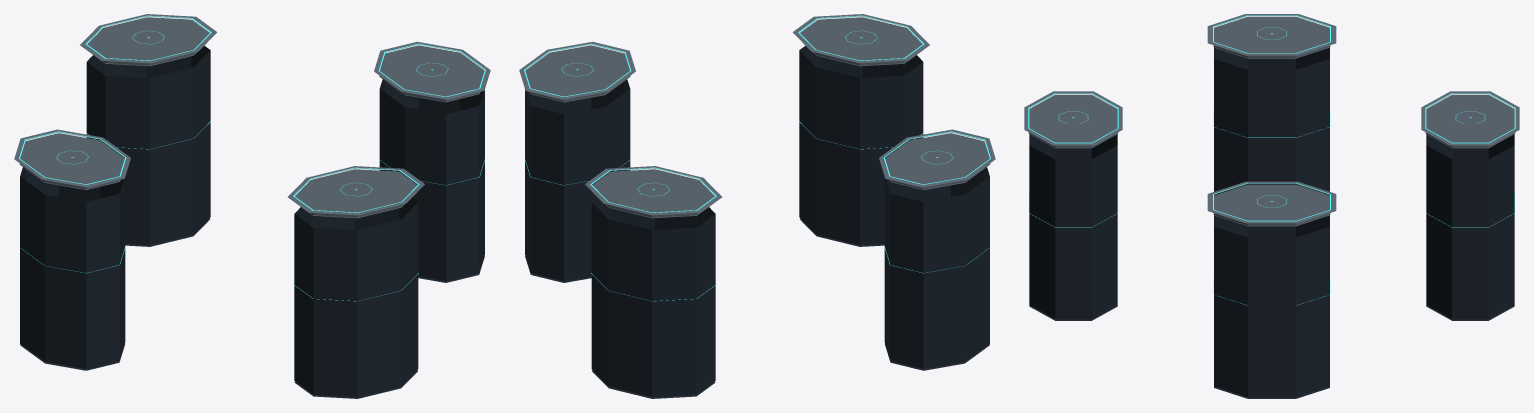
Rendered from arena-launch-bays-v2.glb.
3 views of the same model, side by side, from view 1: azimuth 30°, elevation 25°; view 2: azimuth 150°, elevation 25°; view 3: azimuth 270°, elevation 25° (orthographic). The views are drawn at different scales.
Visible parts, largest first — view 1: Bay 3 | Hatch | deep shaft walls, Bay 2 | Hatch | deep shaft walls, Bay 1 | Hatch | deep shaft walls, Bay 0 | Hatch | deep shaft walls, Bay 3 | HATCH_DOOR_LEFT, Bay 1 | HATCH_DOOR_LEFT, Bay 0 | HATCH_DOOR_LEFT, Bay 2 | HATCH_DOOR_LEFT, Bay 0 | HATCH_DOOR_RIGHT, Bay 1 | HATCH_DOOR_RIGHT, Bay 2 | HATCH_DOOR_RIGHT, Bay 3 | HATCH_DOOR_RIGHT (+4 smaller); view 2: Bay 1 | Hatch | deep shaft walls, Bay 2 | Hatch | deep shaft walls, Bay 3 | Hatch | deep shaft walls, Bay 0 | Hatch | deep shaft walls, Bay 1 | HATCH_DOOR_RIGHT, Bay 3 | HATCH_DOOR_RIGHT, Bay 2 | HATCH_DOOR_LEFT, Bay 0 | HATCH_DOOR_LEFT, Bay 3 | HATCH_DOOR_LEFT, Bay 1 | HATCH_DOOR_LEFT, Bay 0 | HATCH_DOOR_RIGHT, Bay 2 | HATCH_DOOR_RIGHT (+4 smaller); view 3: Bay 0 | Hatch | deep shaft walls, Bay 1 | Hatch | deep shaft walls, Bay 3 | Hatch | deep shaft walls, Bay 2 | Hatch | deep shaft walls, Bay 0 | HATCH_DOOR_RIGHT, Bay 2 | HATCH_DOOR_RIGHT, Bay 0 | HATCH_DOOR_LEFT, Bay 3 | HATCH_DOOR_LEFT, Bay 1 | HATCH_DOOR_LEFT, Bay 2 | HATCH_DOOR_LEFT, Bay 1 | HATCH_DOOR_RIGHT, Bay 3 | HATCH_DOOR_RIGHT (+4 smaller).
Part boxes in pixels (bbox=[...]): Bay 3 | Hatch | deep shaft walls: bbox=[294, 198, 418, 397]; Bay 2 | Hatch | deep shaft walls: bbox=[20, 167, 125, 368]; Bay 1 | Hatch | deep shaft walls: bbox=[86, 46, 210, 245]; Bay 0 | Hatch | deep shaft walls: bbox=[379, 79, 484, 281]; Bay 3 | HATCH_DOOR_LEFT: bbox=[305, 178, 417, 218]; Bay 1 | HATCH_DOOR_LEFT: bbox=[98, 27, 209, 66]; Bay 0 | HATCH_DOOR_LEFT: bbox=[379, 49, 462, 102]; Bay 2 | HATCH_DOOR_LEFT: bbox=[19, 137, 102, 189]; Bay 0 | HATCH_DOOR_RIGHT: bbox=[402, 45, 484, 97]; Bay 1 | HATCH_DOOR_RIGHT: bbox=[87, 17, 201, 51]; Bay 2 | HATCH_DOOR_RIGHT: bbox=[43, 133, 124, 185]; Bay 3 | HATCH_DOOR_RIGHT: bbox=[295, 169, 408, 203]; Bay 1 | Hatch | deep shaft walls: bbox=[591, 198, 715, 397]; Bay 2 | Hatch | deep shaft walls: bbox=[884, 167, 989, 368]; Bay 3 | Hatch | deep shaft walls: bbox=[799, 46, 923, 245]; Bay 0 | Hatch | deep shaft walls: bbox=[525, 79, 630, 281]; Bay 1 | HATCH_DOOR_RIGHT: bbox=[592, 178, 704, 218]; Bay 3 | HATCH_DOOR_RIGHT: bbox=[800, 27, 911, 66]; Bay 2 | HATCH_DOOR_LEFT: bbox=[907, 137, 990, 189]; Bay 0 | HATCH_DOOR_LEFT: bbox=[547, 49, 630, 102]; Bay 3 | HATCH_DOOR_LEFT: bbox=[808, 17, 922, 51]; Bay 1 | HATCH_DOOR_LEFT: bbox=[601, 169, 714, 203]; Bay 0 | HATCH_DOOR_RIGHT: bbox=[525, 45, 607, 97]; Bay 2 | HATCH_DOOR_RIGHT: bbox=[885, 133, 966, 185]; Bay 0 | Hatch | deep shaft walls: bbox=[1214, 215, 1329, 397]; Bay 1 | Hatch | deep shaft walls: bbox=[1426, 134, 1514, 319]; Bay 3 | Hatch | deep shaft walls: bbox=[1029, 134, 1117, 319]; Bay 2 | Hatch | deep shaft walls: bbox=[1214, 47, 1329, 195]; Bay 0 | HATCH_DOOR_RIGHT: bbox=[1213, 203, 1330, 226]; Bay 2 | HATCH_DOOR_RIGHT: bbox=[1213, 35, 1330, 58]; Bay 0 | HATCH_DOOR_LEFT: bbox=[1214, 184, 1329, 203]; Bay 3 | HATCH_DOOR_LEFT: bbox=[1028, 95, 1073, 148]; Bay 1 | HATCH_DOOR_LEFT: bbox=[1425, 95, 1470, 148]; Bay 2 | HATCH_DOOR_LEFT: bbox=[1214, 16, 1329, 35]; Bay 1 | HATCH_DOOR_RIGHT: bbox=[1470, 95, 1515, 148]; Bay 3 | HATCH_DOOR_RIGHT: bbox=[1073, 95, 1118, 148].
Size of the model in its own units: 8.07 by 3.22 by 8.07.
